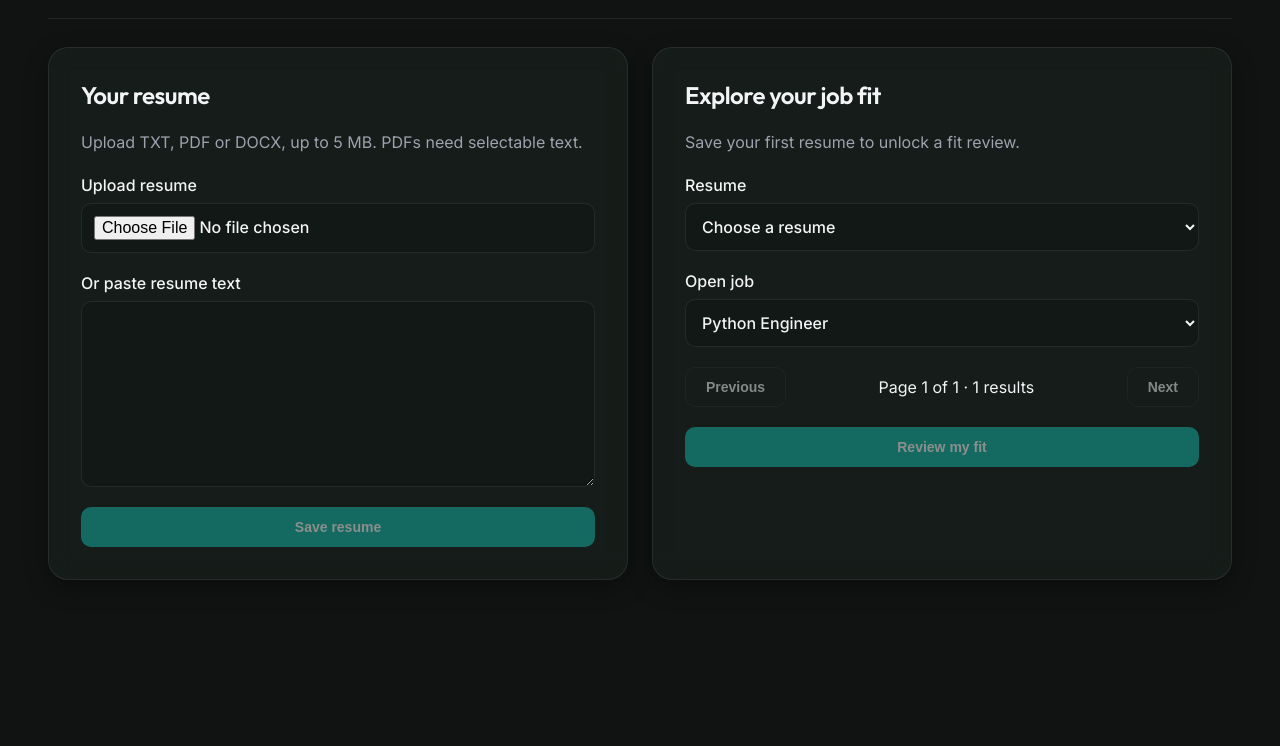
it: lets a candidate save a resume and review evidence for a job
Expected: the text "Save your first resume to unlock a fit review." is shown, x1=685 y1=132 x2=1020 y2=152
Expected: the button "Review my fit" is disabled, x1=685 y1=427 x2=1199 y2=467
Step 1. Type "Jane Doe Python FastAPI backend developer" into the text box labelled "Or paste resume text" → [338, 394], box x1=81 y1=301 x2=595 y2=487
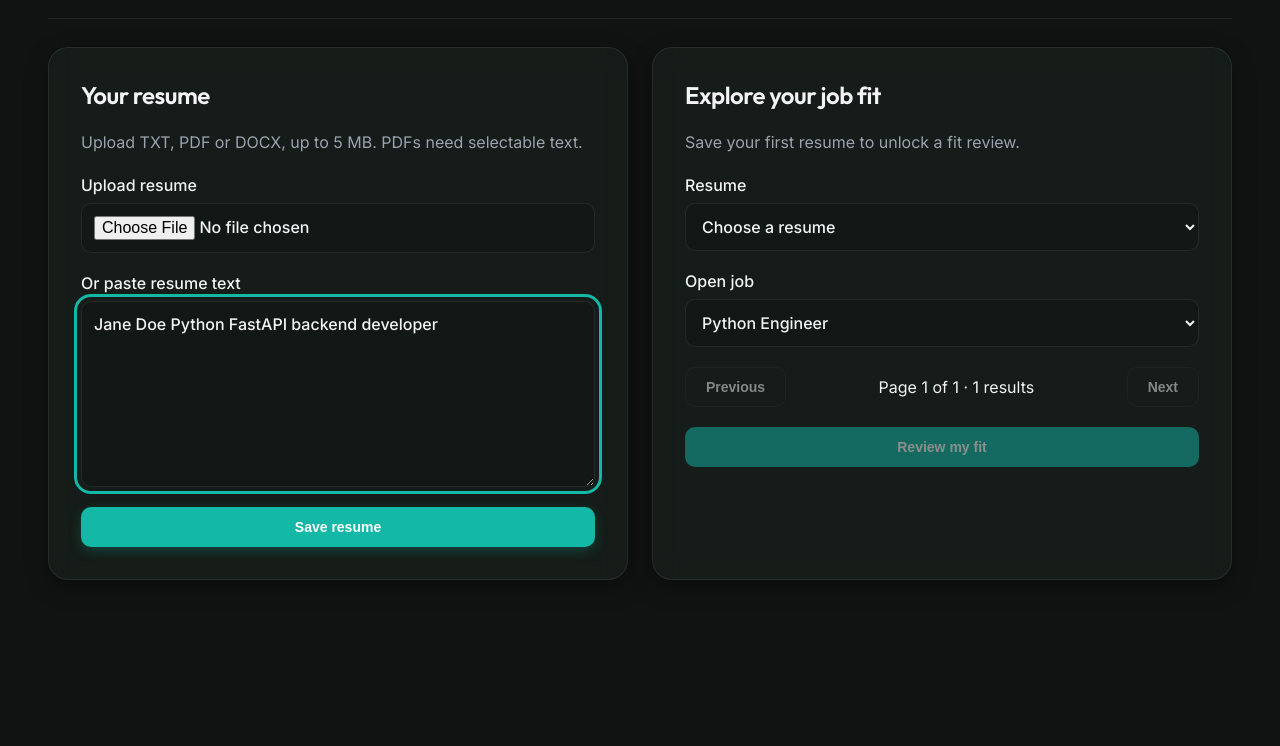
Step 2. Click the button "Save resume" → [338, 527], box x1=81 y1=507 x2=595 y2=547
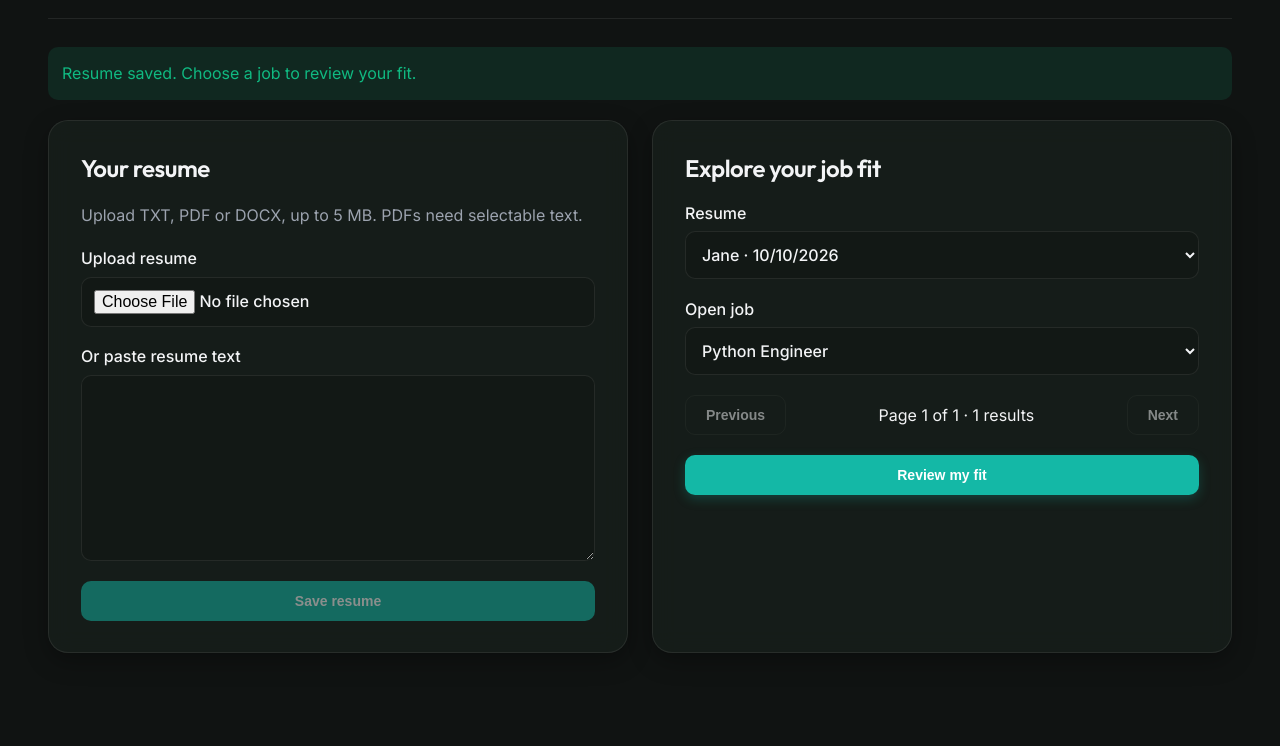
Expected: the message "Resume saved. Choose a job to review your fit." is shown, x1=48 y1=47 x2=1232 y2=100
Step 3. Click the button "Review my fit" → [942, 475], box x1=685 y1=455 x2=1199 y2=495
(page scrolled)
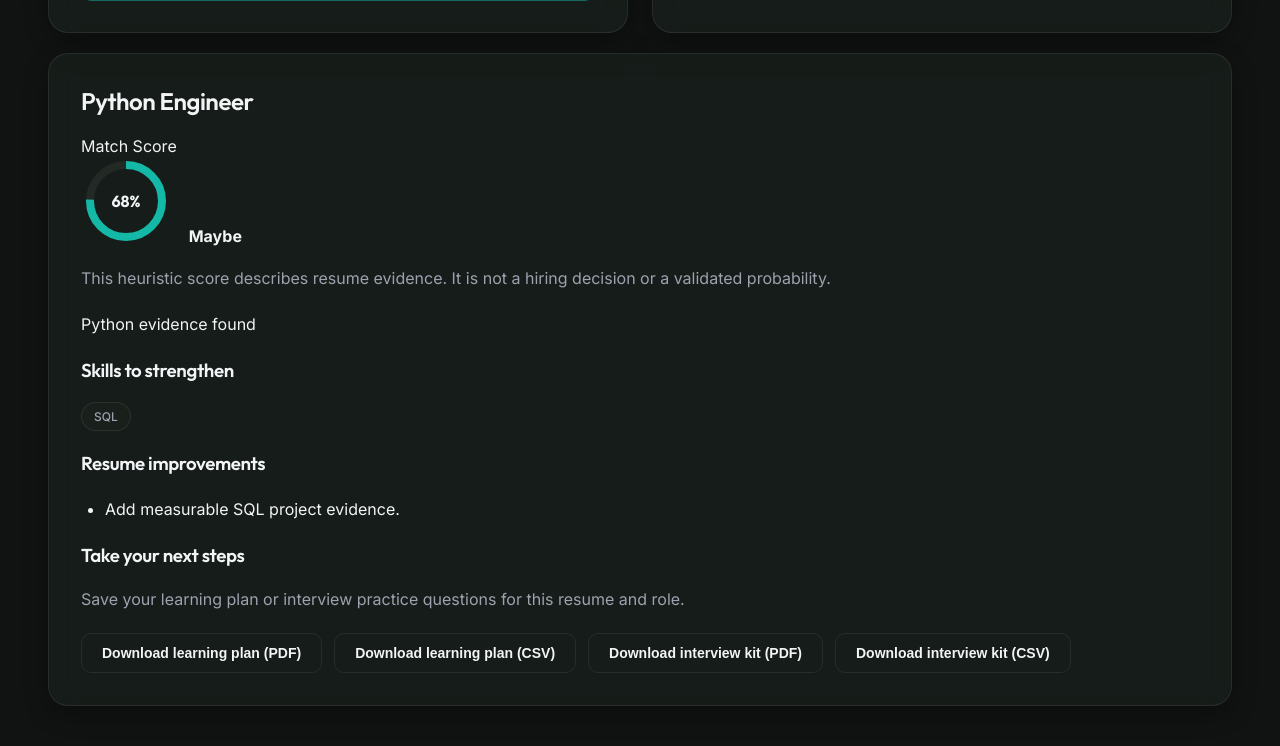
Expected: the list item "Add measurable SQL project evidence." is shown, x1=105 y1=499 x2=400 y2=519
Step 4. Click the button "Download learning plan (PDF)" → [202, 653], box x1=81 y1=633 x2=322 y2=673
(page scrolled)
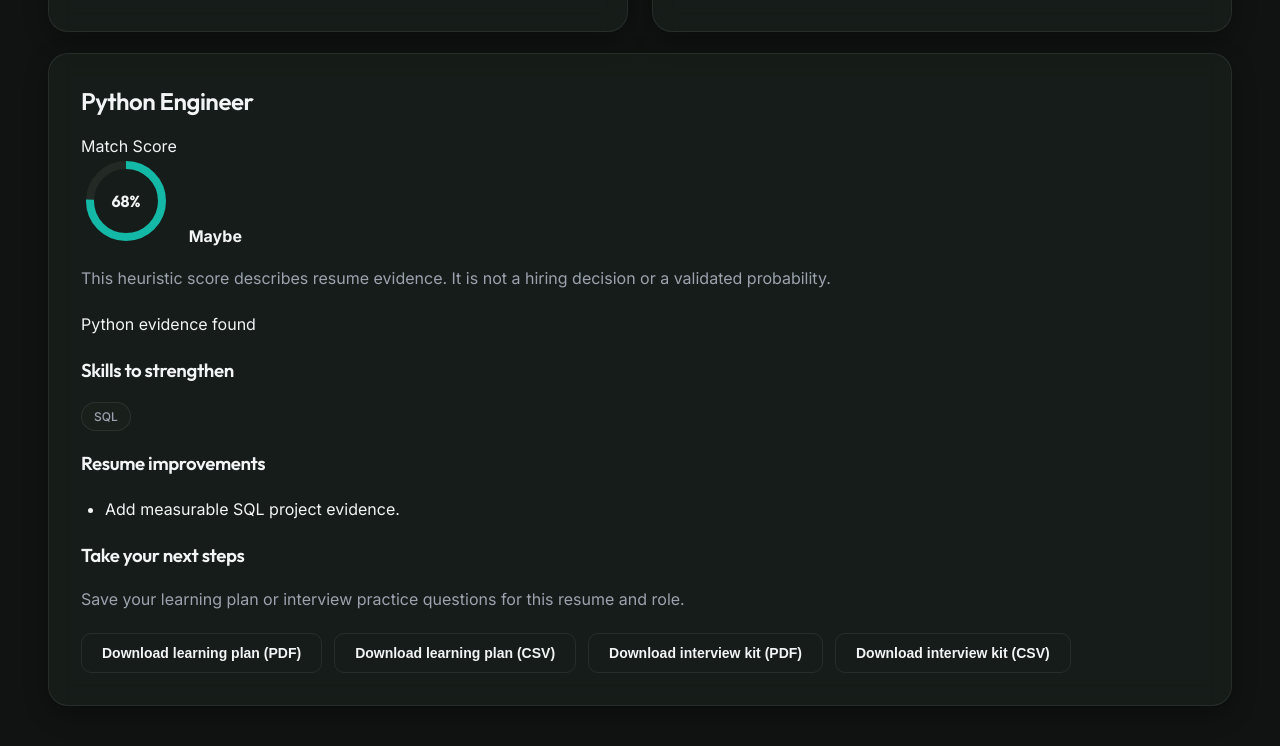
Step 5. Click the button "Download interview kit (CSV)" → [953, 652], box x1=835 y1=632 x2=1071 y2=672
(page scrolled)
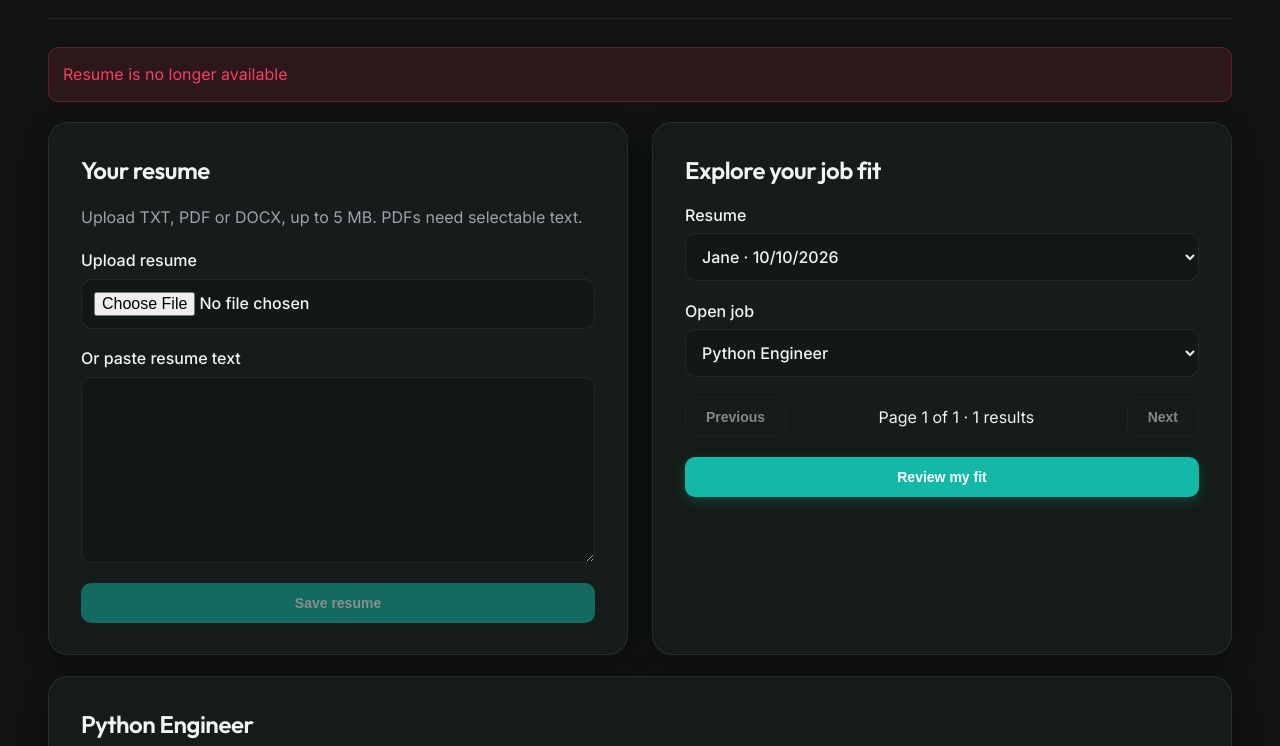
Expected: the message reads "Resume is no longer available", x1=63 y1=64 x2=288 y2=84
